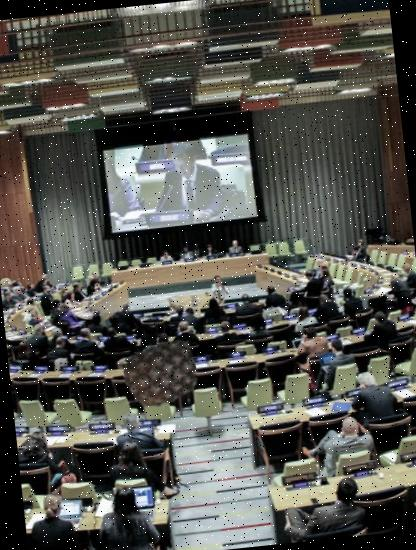Pineapple: (121, 334, 200, 414)
